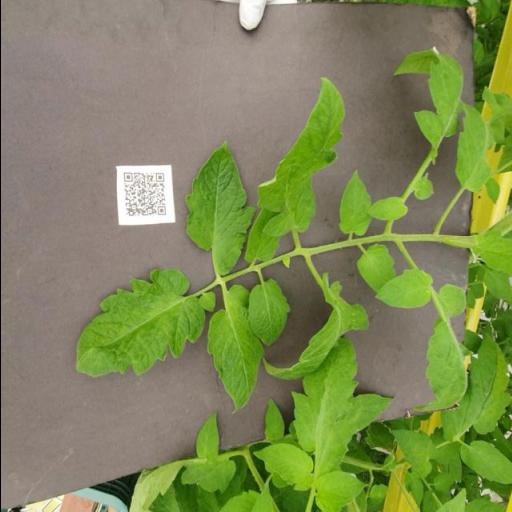Healthy: (74, 267, 206, 379), (254, 76, 346, 236), (184, 138, 256, 274), (289, 336, 360, 473), (440, 334, 510, 442), (205, 286, 264, 414), (392, 46, 462, 150), (414, 283, 468, 413), (453, 104, 491, 193), (244, 278, 290, 348), (251, 444, 313, 492), (336, 170, 374, 238), (456, 440, 512, 486), (372, 268, 432, 308), (314, 470, 370, 512)
